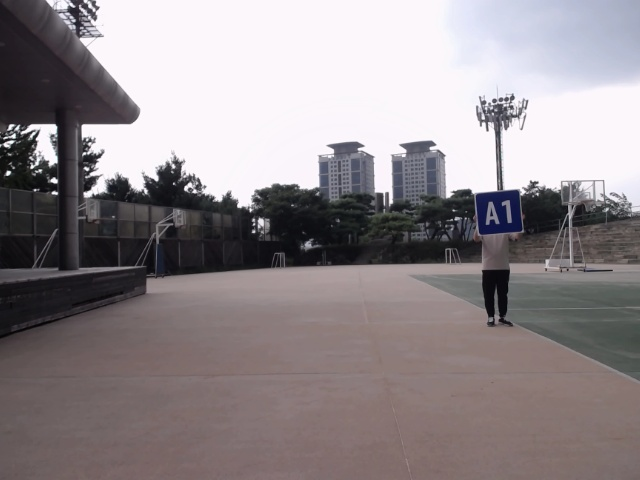delivery_a1: (475, 190, 523, 236)
